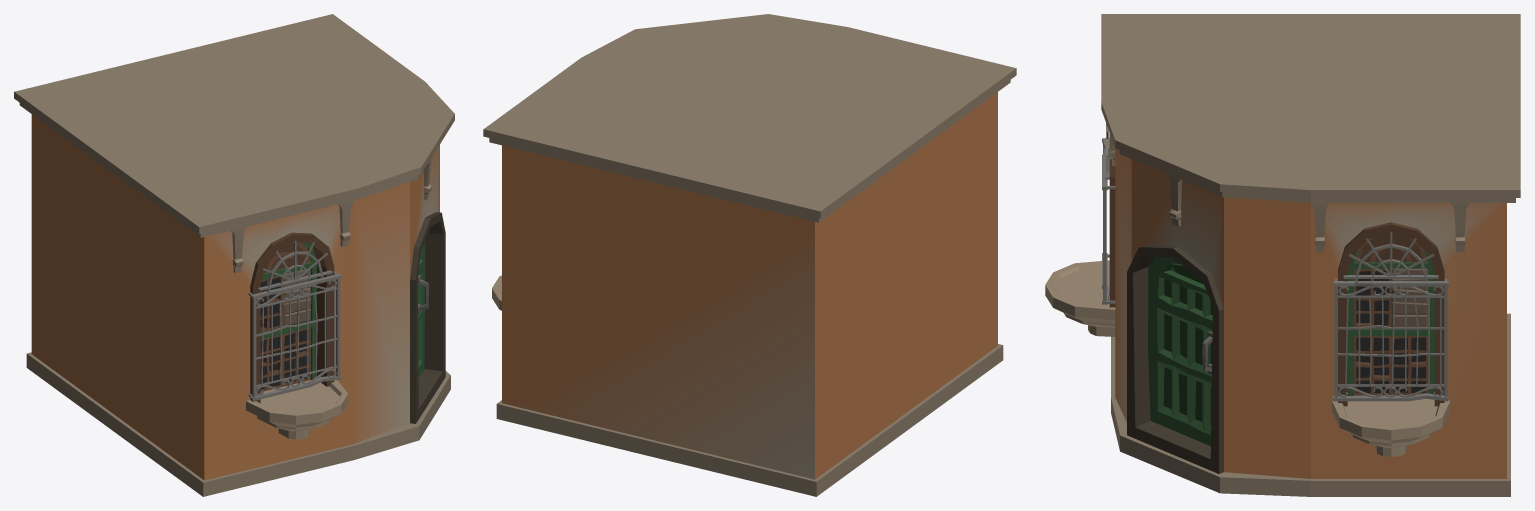
The model's file is SM_Bld_Cuba_Room_03.glb.
3 views of the same model, side by side, from view 1: azimuth 30°, elevation 25°; view 2: azimuth 150°, elevation 25°; view 3: azimuth 270°, elevation 25° (orthographic). The views are drawn at different scales.
Visible parts, largest first — view 1: SM_Bld_Cuba_Room_03; view 2: SM_Bld_Cuba_Room_03; view 3: SM_Bld_Cuba_Room_03.
Part boxes in pixels (x1=…): SM_Bld_Cuba_Room_03: x1=14, y1=14, x2=454, y2=496; SM_Bld_Cuba_Room_03: x1=483, y1=14, x2=1016, y2=496; SM_Bld_Cuba_Room_03: x1=1045, y1=14, x2=1520, y2=496.
Size of the model in its own units: 0.0457 by 0.0333 by 0.0461.
